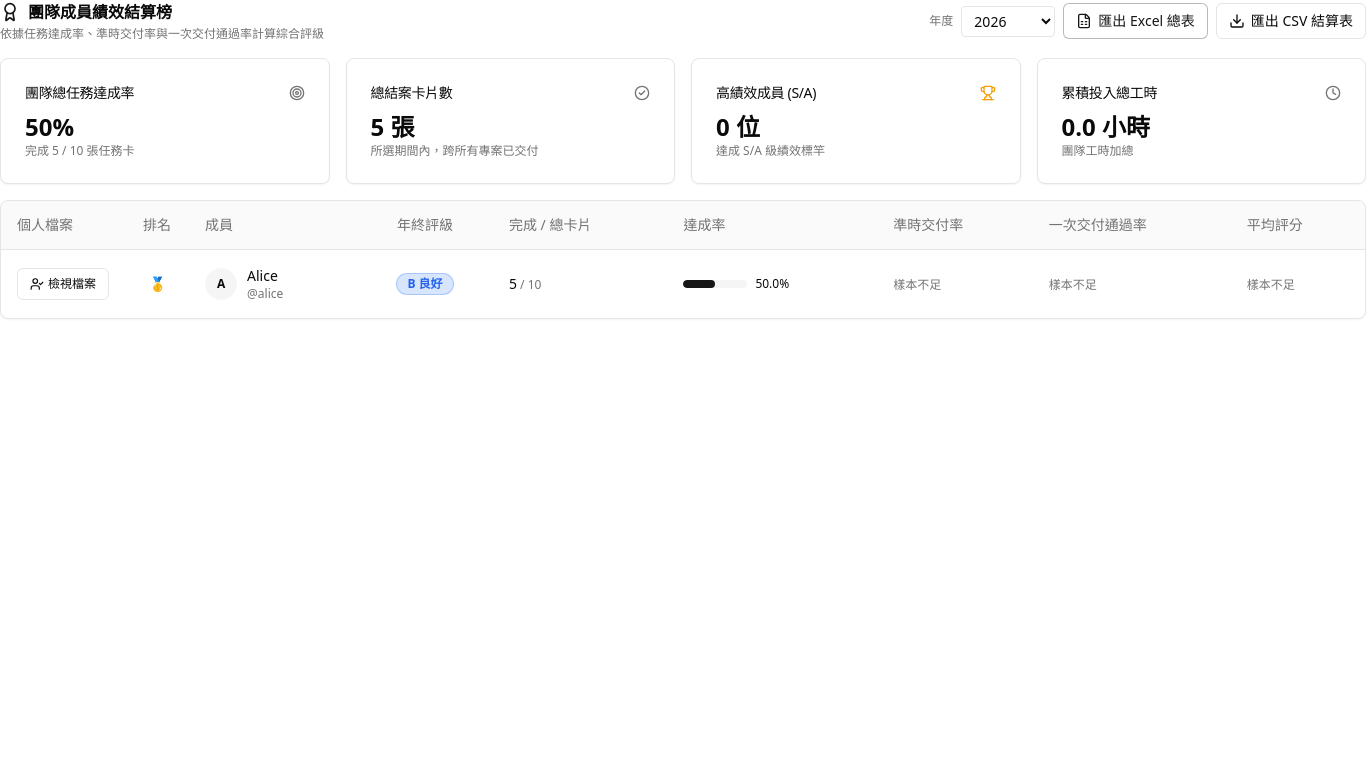
Scenario: TeamReportTab dossier › 不適用的條件顯示各自的原因（無截止日樣本／樣本不足）
Click the button "檢視檔案" at (63, 284), box x1=17 y1=268 x2=109 y2=300
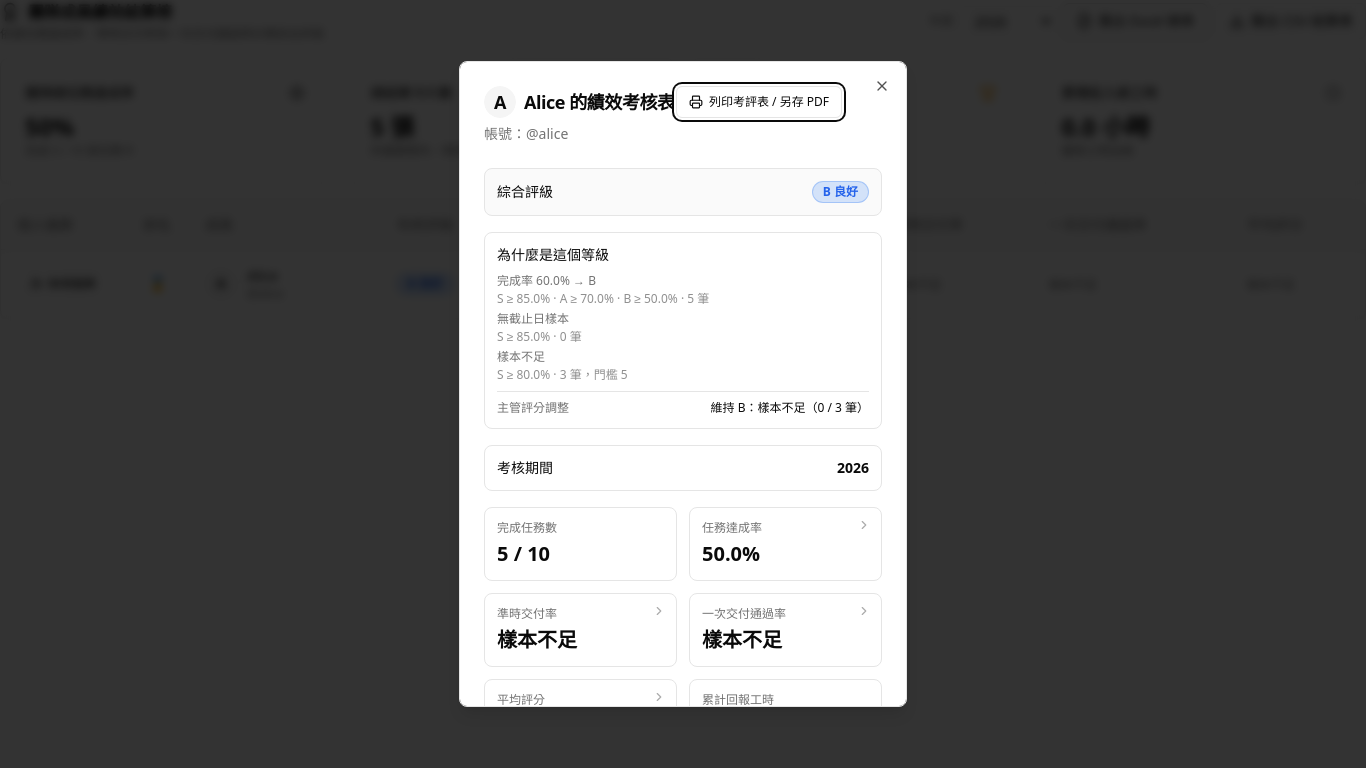
Expected: the text "無截止日樣本" is shown, x1=497 y1=311 x2=582 y2=327
Expected: the text "樣本不足" below "S ≥ 85.0% · 0 筆" is shown, x1=497 y1=348 x2=545 y2=365
Expected: the element with test id "rating-explanation" shows "樣本不足（0 / 3 筆）", x1=710 y1=399 x2=869 y2=416
